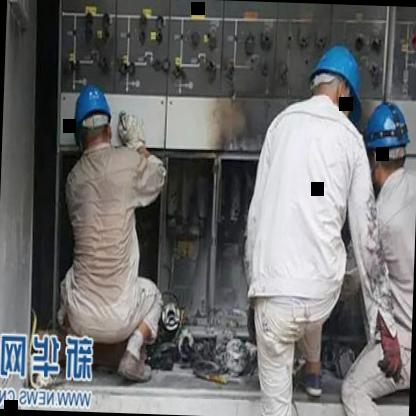helmet: (304, 42, 366, 124), (360, 98, 408, 186), (72, 86, 116, 157)
